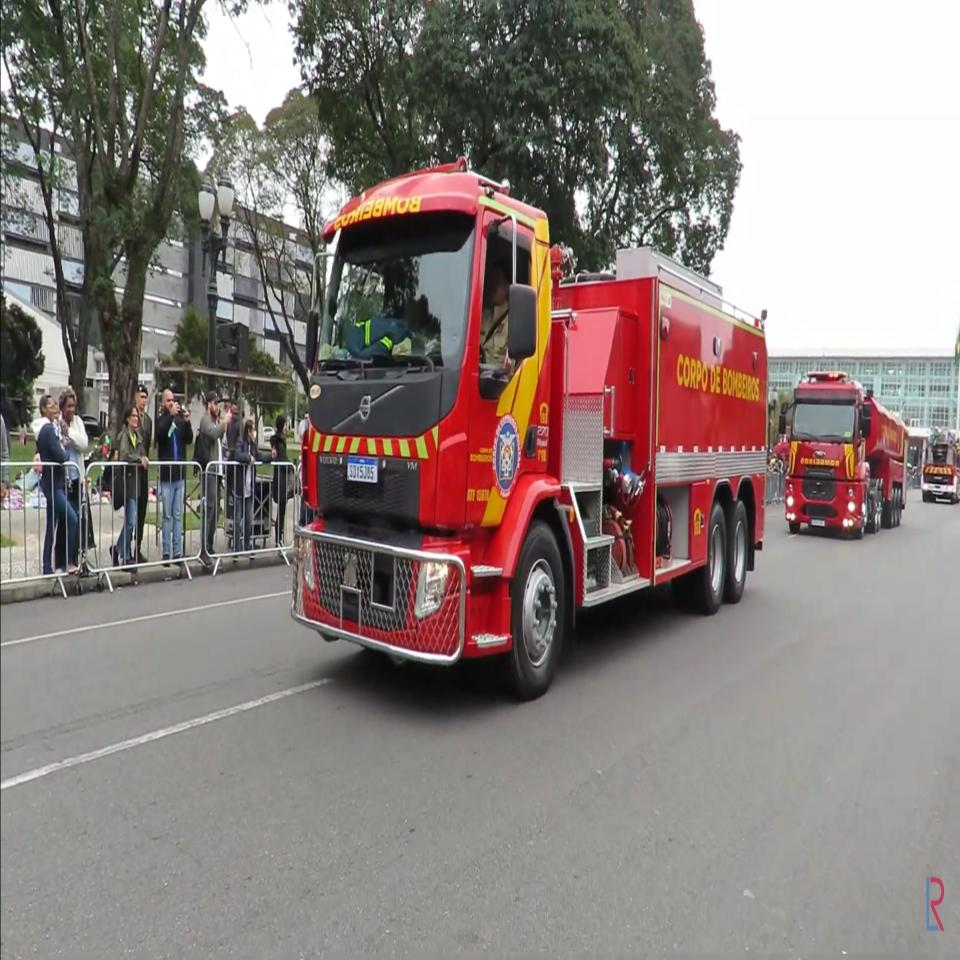viatura: (289, 155, 771, 704), (777, 366, 910, 542)
